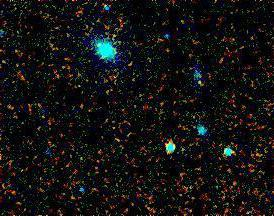star: (191, 69, 221, 99)
